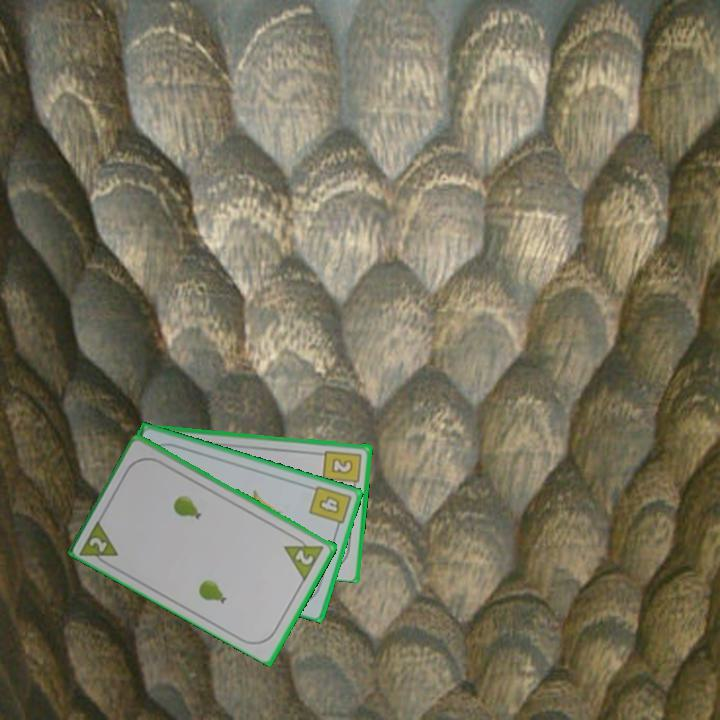2b: (320, 446, 364, 491)
2p: (281, 531, 327, 583), (86, 533, 111, 555)
4b: (305, 482, 354, 533)
